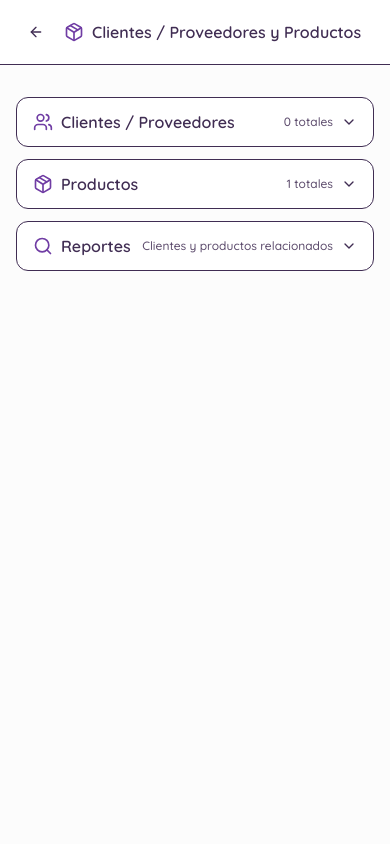
Test case: AdminPageClient integration › shows product name when initial products provided
Click the button "Productos 1 totales".
click(100, 184)  # box 17,160 -> 373,208
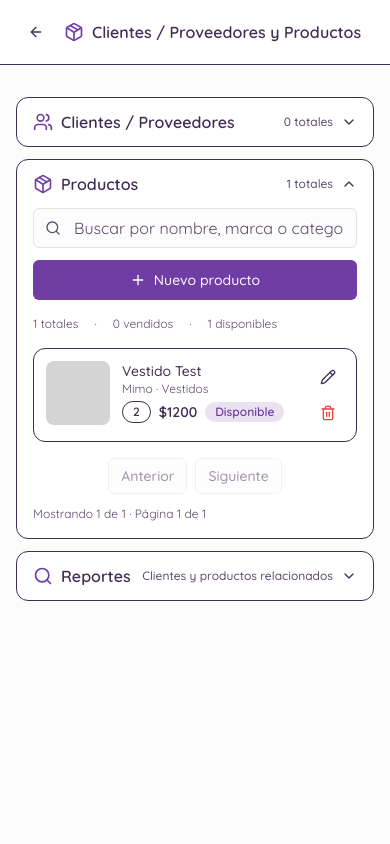
Now the text "Vestido Test" is shown, box 122,362 -> 202,380
